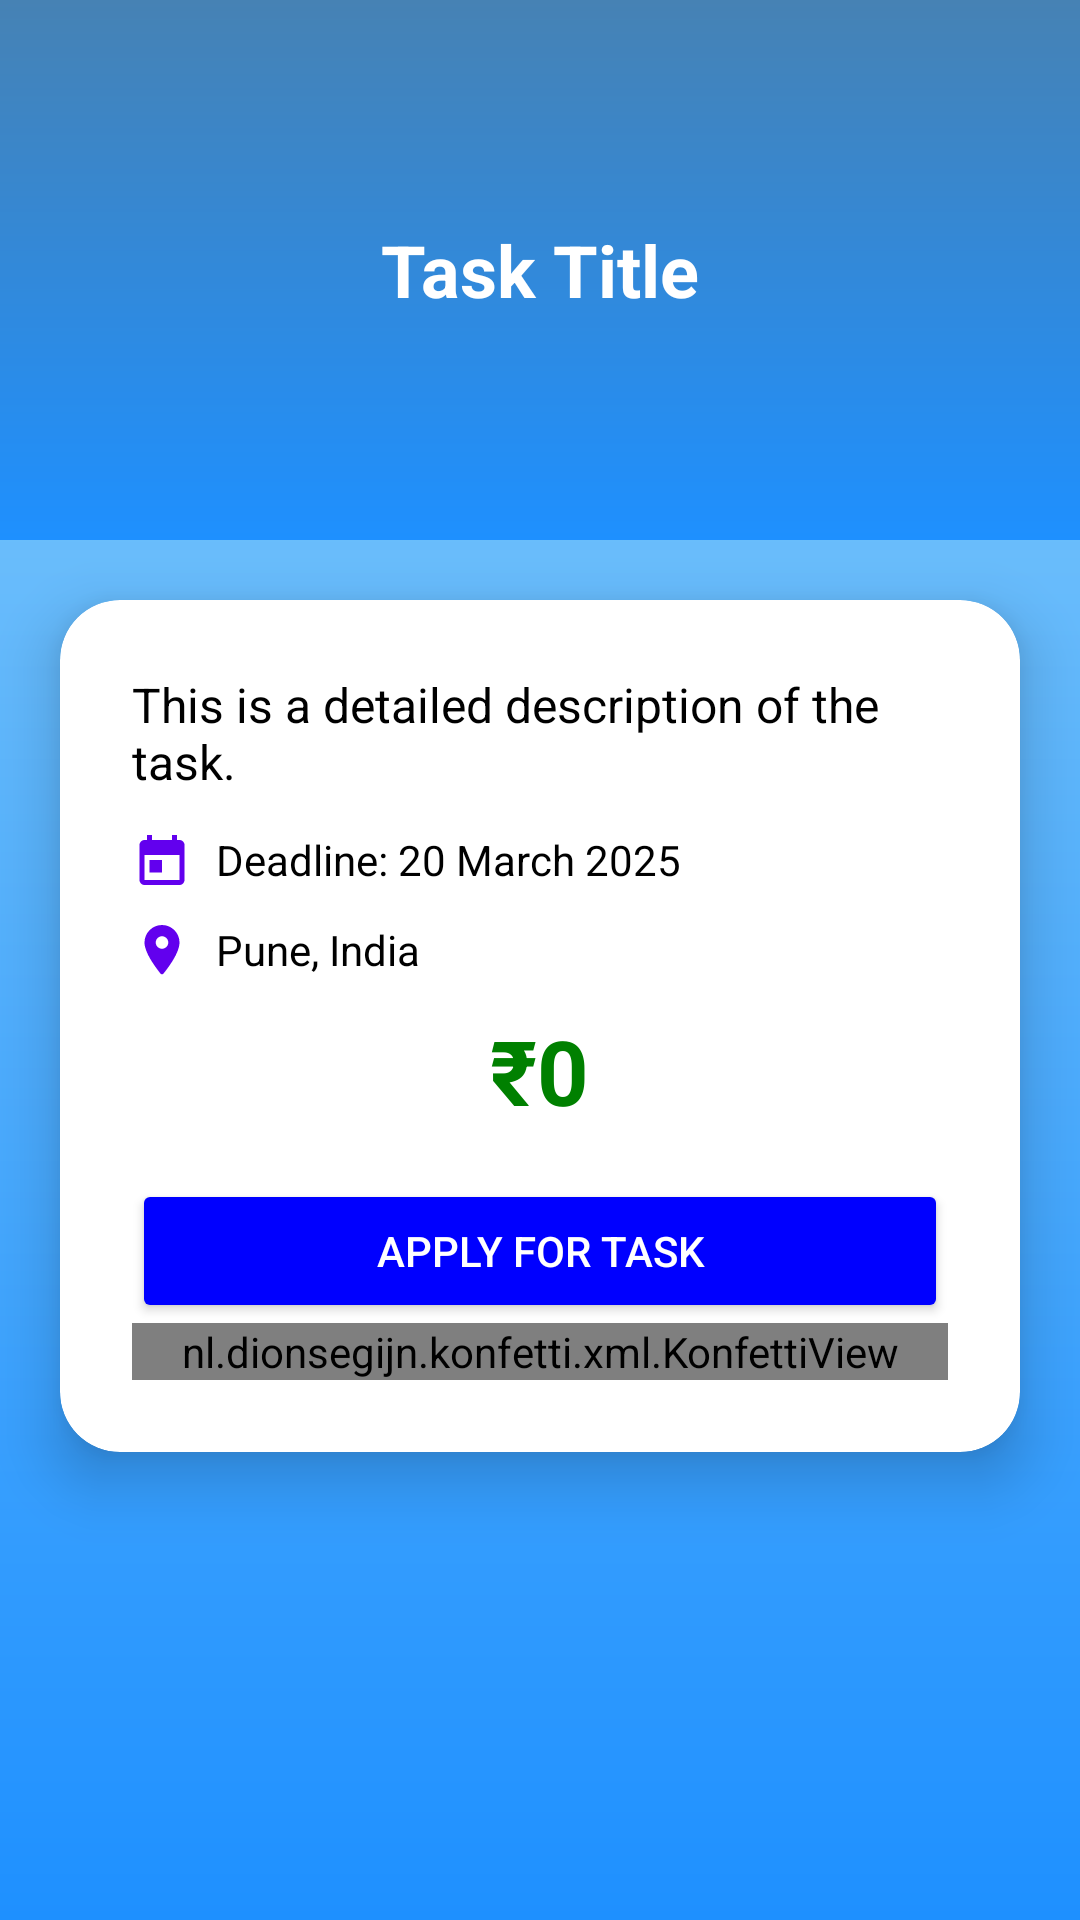

Screen size 1080x1920. Icon name, then its box in pixels as region(x1, y1, x2, y2):
calendar: region(139, 835, 185, 885)
location: region(144, 925, 180, 975)
